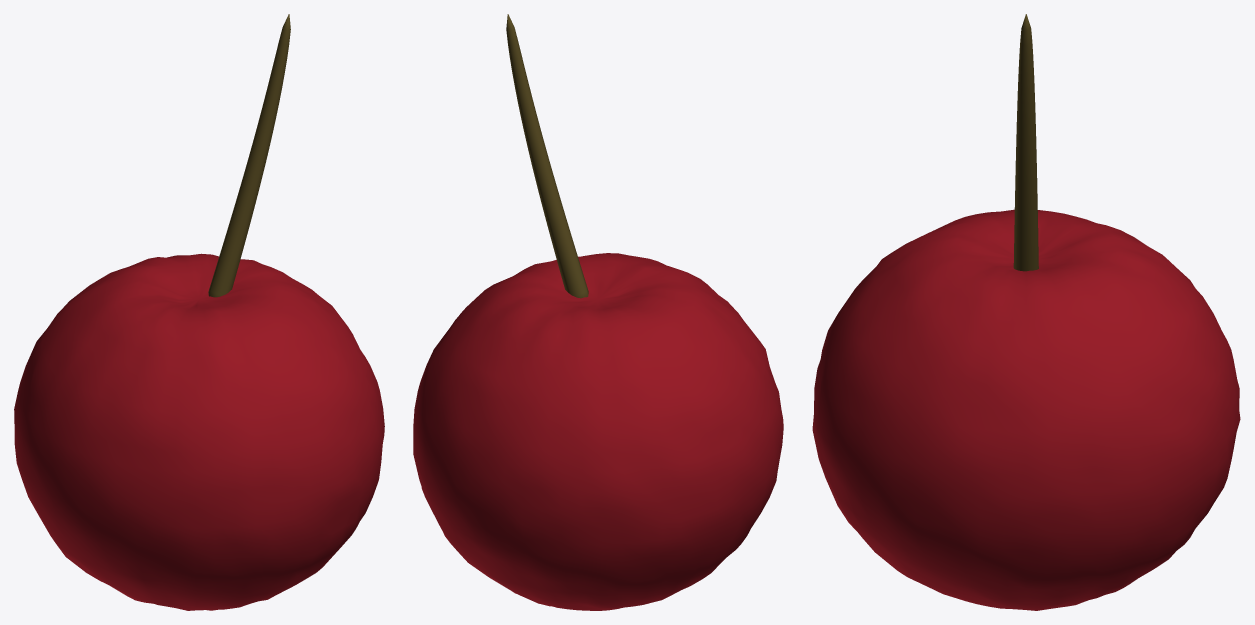
File: sweet-cherry.glb
3 renders of one model, left to right at view 1: azimuth 30°, elevation 25°; view 2: azimuth 150°, elevation 25°; view 3: azimuth 270°, elevation 25°, orthographic. The views are drawn at different scales.
Visible parts, largest first — view 1: Fresh cherry, Cherry stem; view 2: Fresh cherry, Cherry stem; view 3: Fresh cherry, Cherry stem.
Boxes of the visible parts, bbox=[...] form: Fresh cherry: bbox=[14, 253, 384, 610]; Cherry stem: bbox=[208, 14, 290, 297]; Fresh cherry: bbox=[413, 253, 783, 610]; Cherry stem: bbox=[506, 14, 588, 298]; Fresh cherry: bbox=[812, 209, 1240, 610]; Cherry stem: bbox=[1013, 14, 1038, 271].
Size of the model in its own units: 0.291 by 0.4851 by 0.301.
